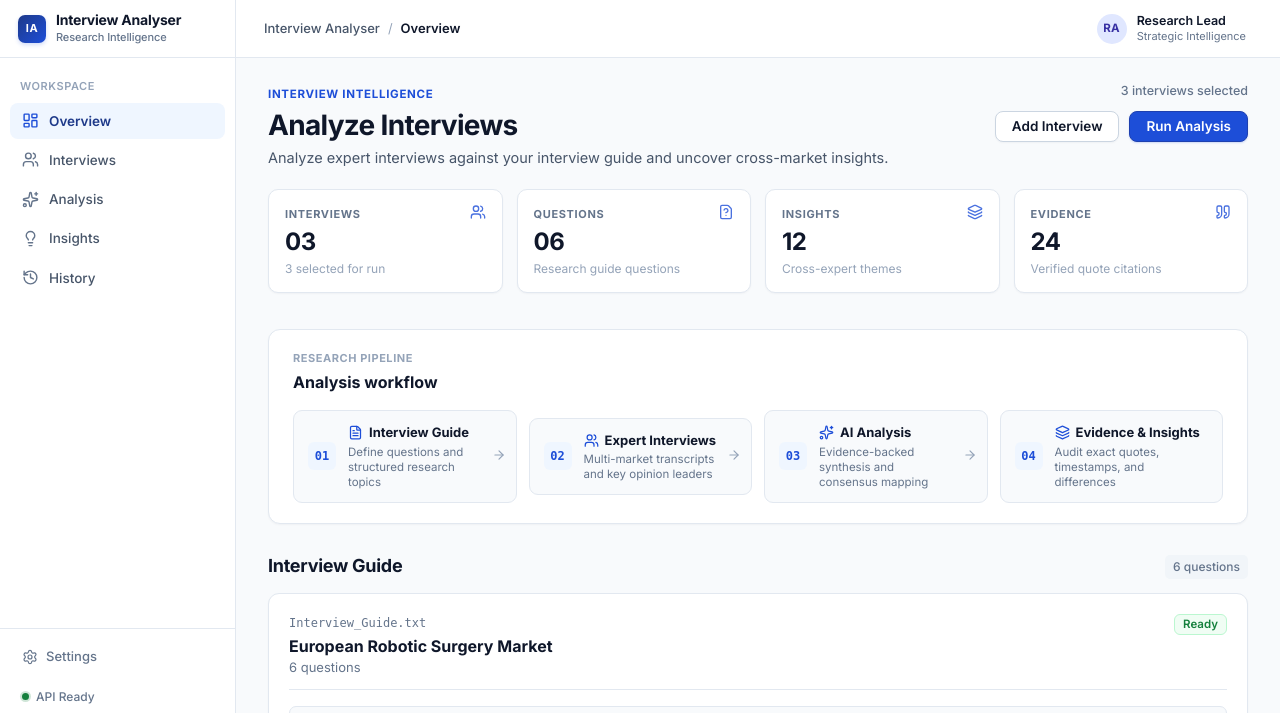
Interview Analyzer › saves the workspace profile from settings
Step 1. Click the link "Settings" → coordinates (60, 656), box [22, 648, 97, 665]
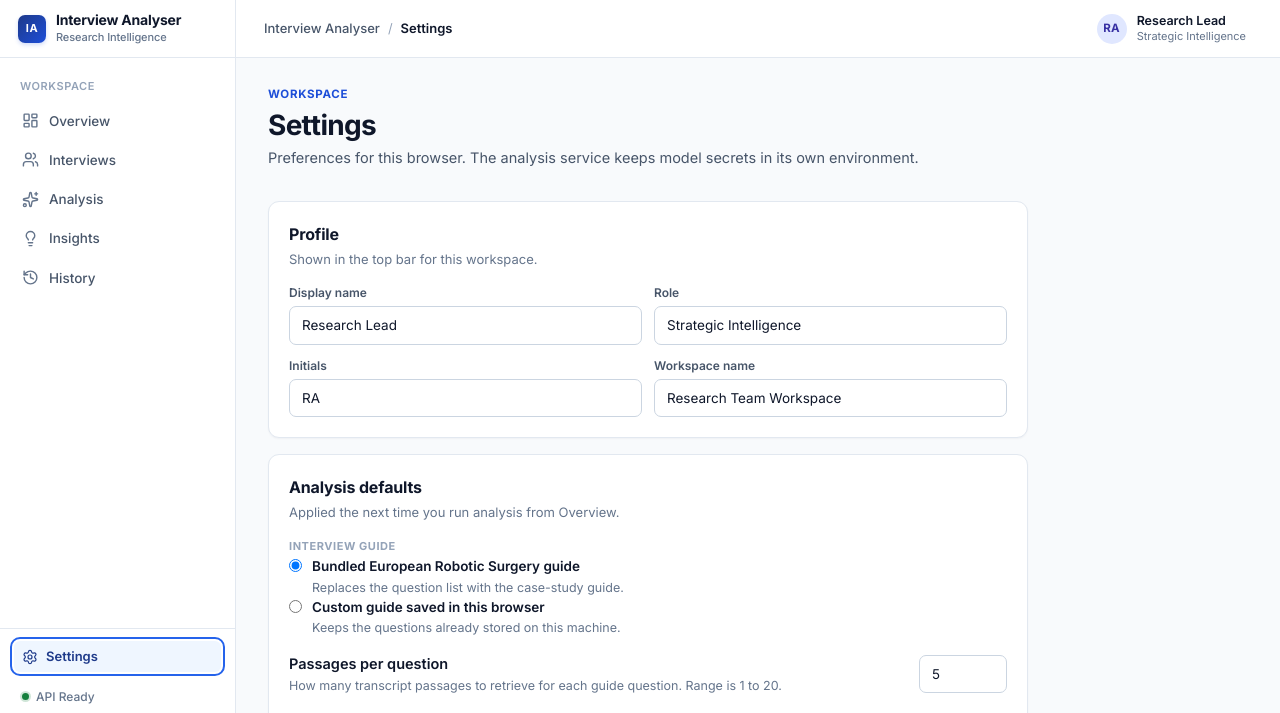
Result: the heading "Settings" is shown at [268, 108, 376, 142]
Step 2. Replace the text in the field labelled "Display name" with "Alex Chen" → coordinates (466, 326), box [289, 306, 642, 345]
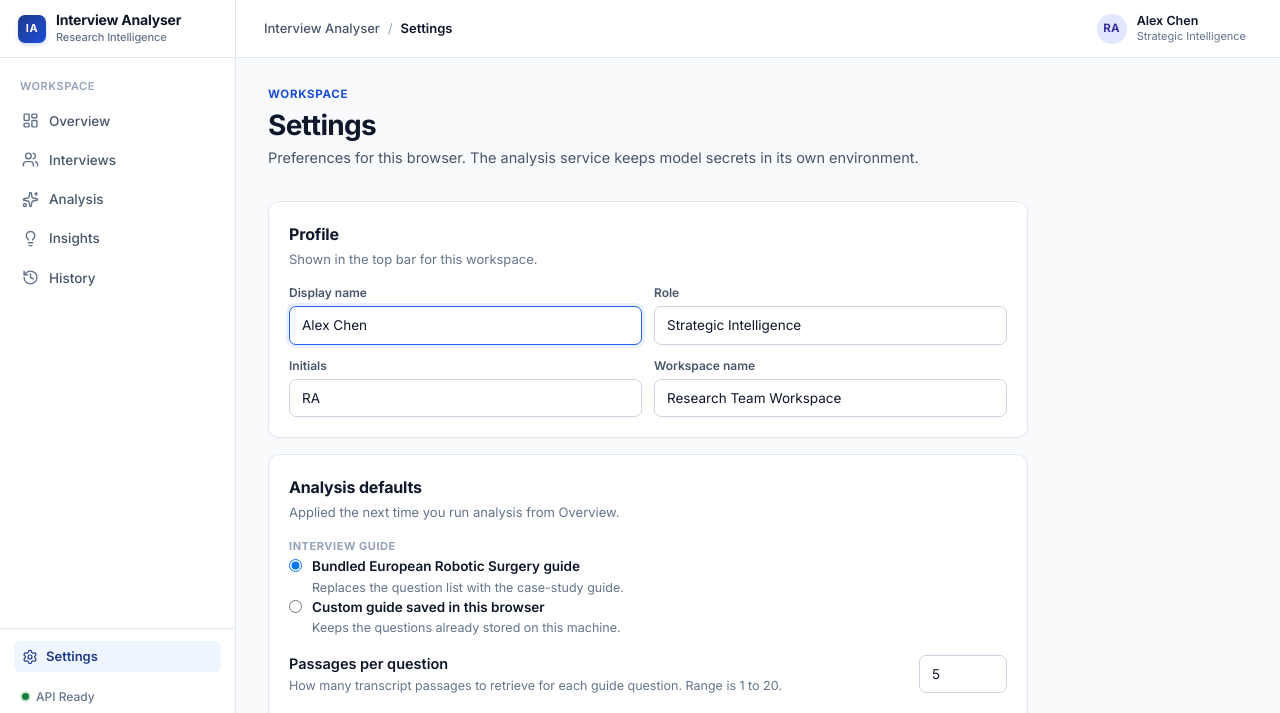
Result: the number field labelled "Passages per question" holds "5" at [919, 655, 1007, 693]
Result: the text "Alex Chen" is shown at [1137, 13, 1198, 28]
